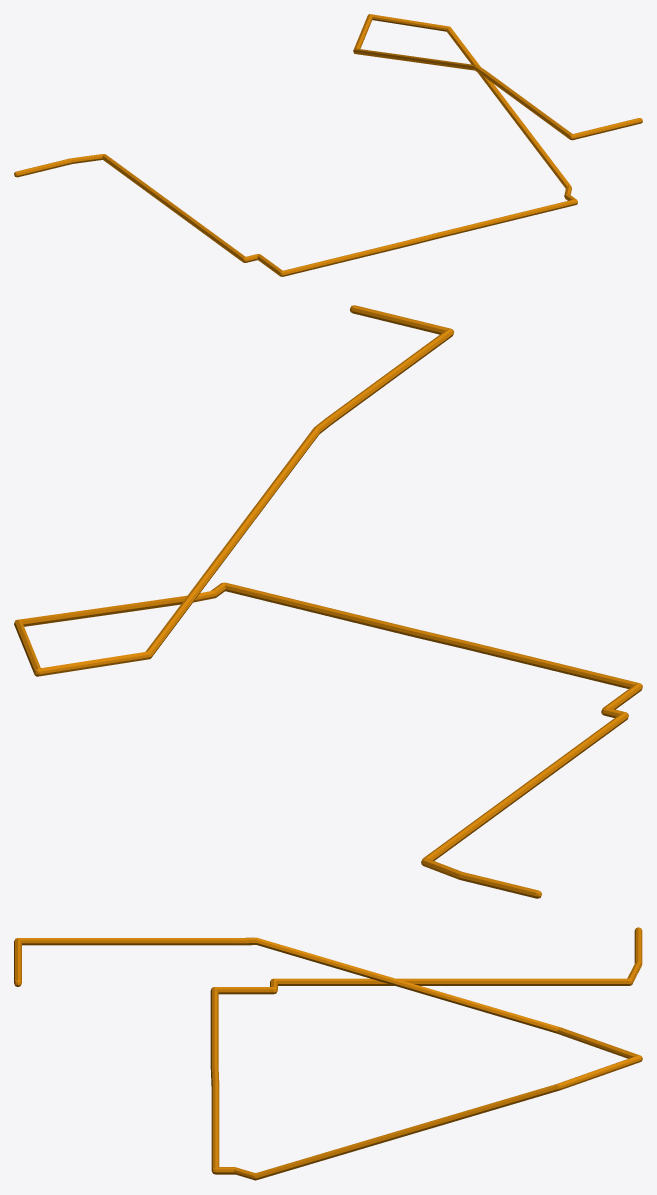
The picture shows the model from 3 angles, top to bottom: view 1: azimuth 30°, elevation 25°; view 2: azimuth 150°, elevation 25°; view 3: azimuth 270°, elevation 25°; orthographic projection. The views are drawn at different scales.
Bounding box in the file's own units: 1492 × 520 × 1592.
